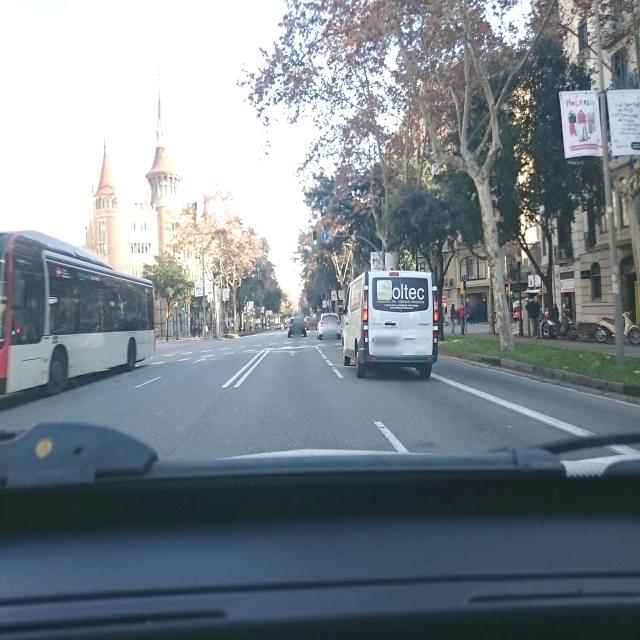bike: (540, 309, 580, 341)
car: (341, 268, 437, 379), (317, 312, 341, 340), (287, 316, 308, 338), (274, 323, 283, 331)
